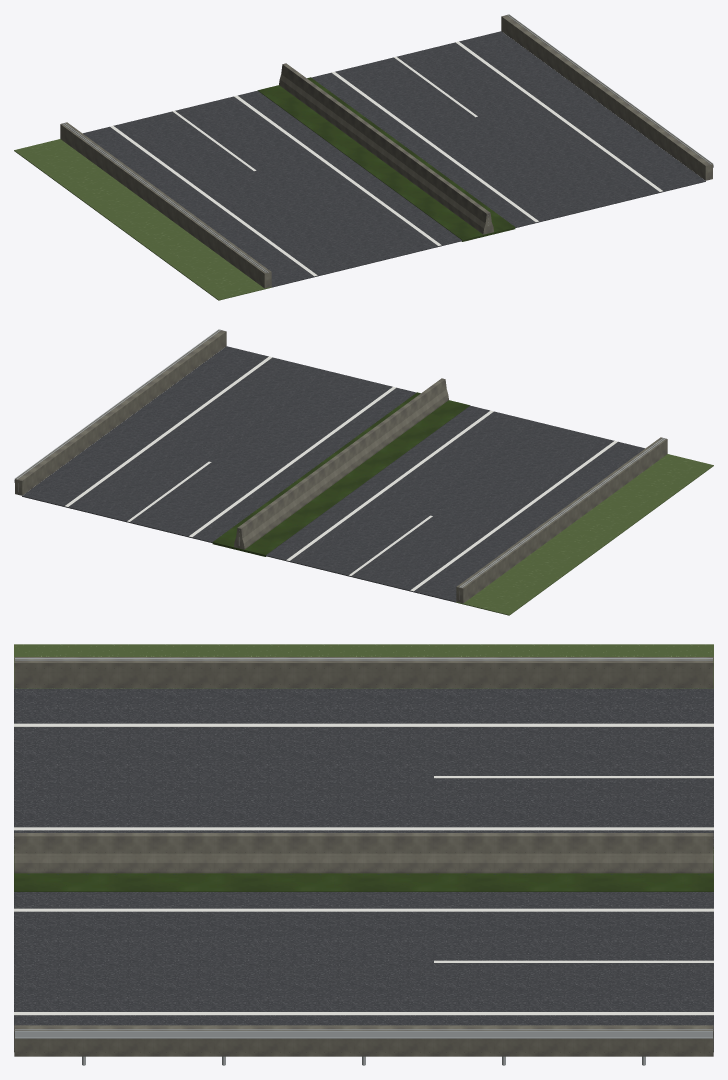
3 views of the same model, one above another, from view 1: azimuth 30°, elevation 25°; view 2: azimuth 150°, elevation 25°; view 3: azimuth 270°, elevation 25° (orthographic). The views are drawn at different scales.
Visible parts, largest first — view 1: jp-roadway-expressway, opt_side_wallr, opt_median_green, opt_median_single, opt_median_wall, opt_side_guard; view 2: jp-roadway-expressway, opt_side_wallr, opt_median_green, opt_median_single, opt_median_wall, opt_side_guard; view 3: jp-roadway-expressway, opt_side_wallr, opt_median_wall, opt_median_single, opt_median_green, opt_side_guard.
Part boxes in pixels (x1,y1,x2,y2): jp-roadway-expressway: [14, 31, 705, 300]; opt_side_wallr: [60, 14, 712, 288]; opt_median_green: [258, 77, 515, 241]; opt_median_single: [281, 63, 492, 233]; opt_median_wall: [279, 74, 493, 234]; opt_side_guard: [62, 14, 713, 272]; jp-roadway-expressway: [22, 346, 713, 615]; opt_side_wallr: [15, 329, 667, 603]; opt_median_green: [212, 392, 469, 556]; opt_median_single: [235, 378, 446, 547]; opt_median_wall: [234, 389, 448, 549]; opt_side_guard: [14, 329, 665, 587]; jp-roadway-expressway: [14, 644, 713, 1051]; opt_side_wallr: [14, 657, 713, 1056]; opt_median_wall: [14, 853, 713, 873]; opt_median_single: [14, 833, 713, 853]; opt_median_green: [14, 847, 713, 891]; opt_side_guard: [15, 658, 712, 1065].
Size of the model in its own units: 27.97 by 1.4 by 20.
8 materials, 4 textured.
